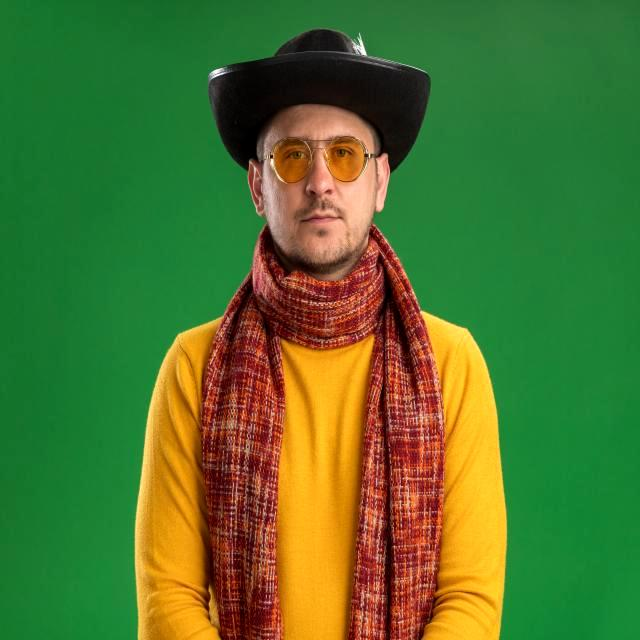no_hard_hat: (208, 29, 430, 172)
person: (135, 29, 506, 640)
